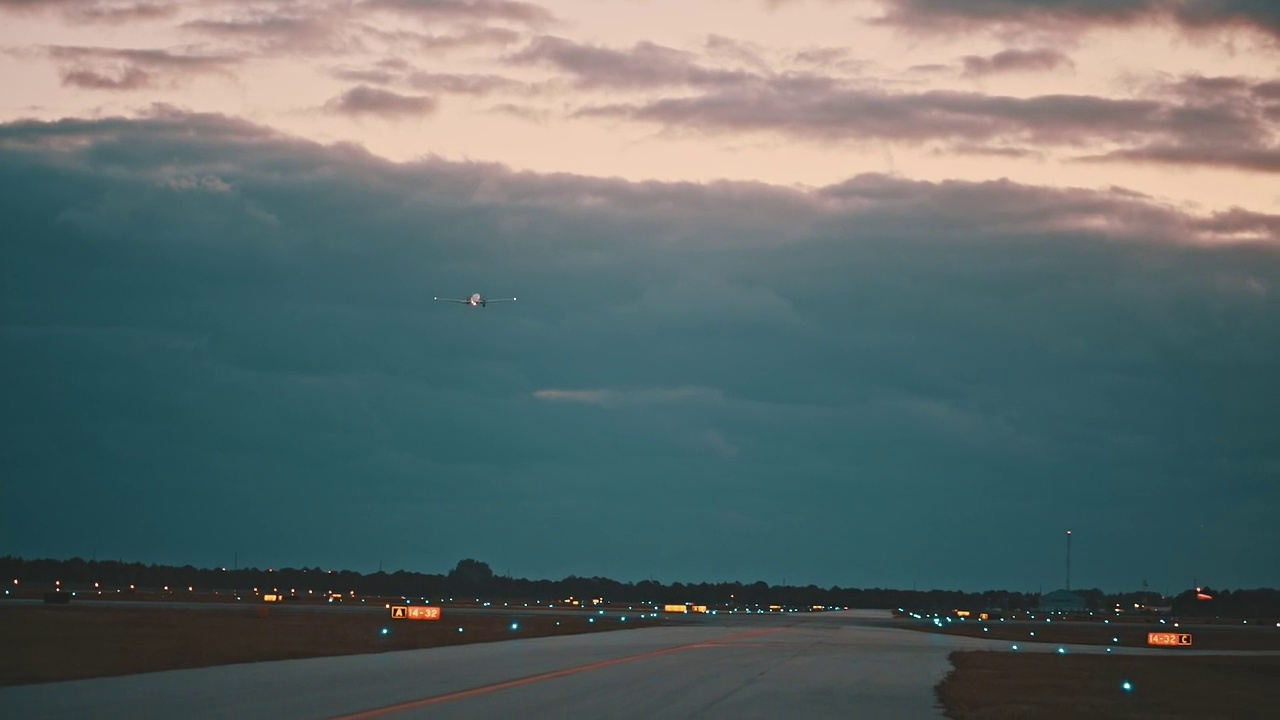plane: (433, 288, 517, 307)
